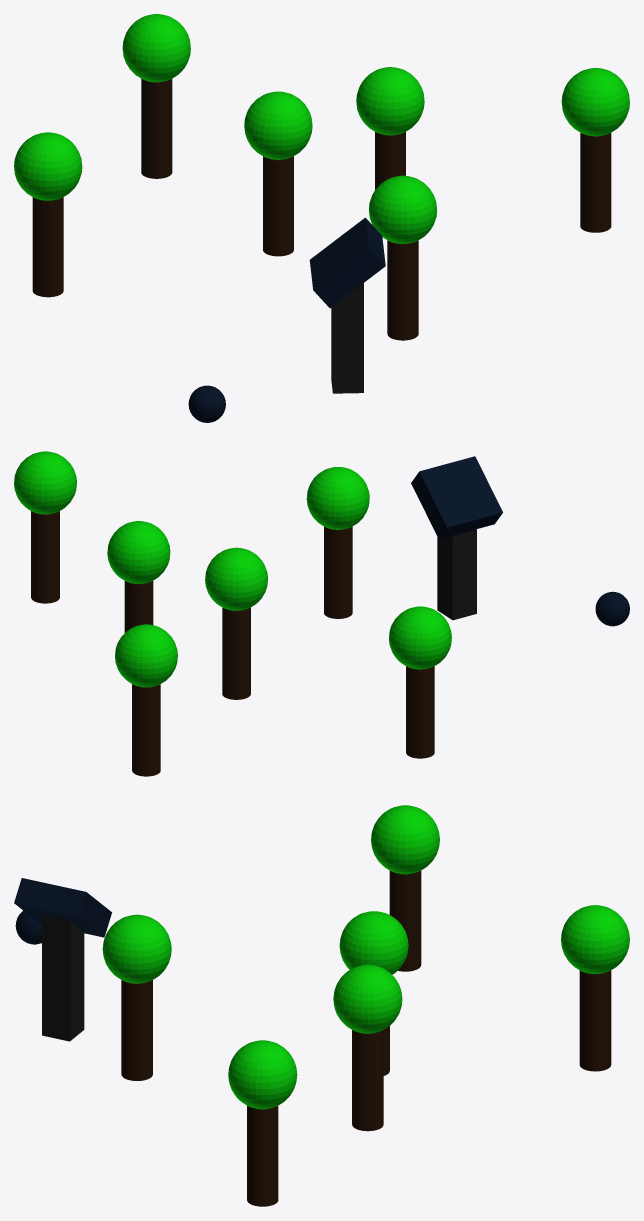
File: exercise20071.obj
The picture shows the model from 3 angles, top to bottom: view 1: azimuth 30°, elevation 25°; view 2: azimuth 150°, elevation 25°; view 3: azimuth 270°, elevation 25°; orthographic projection. The views are drawn at different scales.
Parts seen in each view (by area): view 1: Cube.001, Sphere.002, Sphere, Sphere.003, Sphere.006, Sphere.005, Sphere.004, Cube, Cylinder.006, Cylinder.004, Cylinder.003, Cylinder.005 (+3 smaller); view 2: Cube.001, Cube, Sphere.003, Sphere.005, Sphere.006, Sphere, Sphere.002, Sphere.004, Cylinder.002, Cylinder.006, Cylinder.003, Cylinder.005 (+4 smaller); view 3: Cube, Sphere.003, Sphere, Sphere.004, Sphere.006, Sphere.005, Sphere.002, Cube.001, Cylinder.005, Cylinder.003, Cylinder.004, Cylinder (+3 smaller).
Part boxes in pixels (bbox=[...]): Cube.001: bbox=[309, 217, 385, 308]; Sphere.002: bbox=[244, 91, 312, 159]; Sphere: bbox=[356, 67, 424, 135]; Sphere.003: bbox=[561, 68, 629, 136]; Sphere.006: bbox=[14, 132, 82, 200]; Sphere.005: bbox=[122, 14, 190, 82]; Sphere.004: bbox=[369, 175, 437, 243]; Cube: bbox=[331, 283, 363, 393]; Cylinder.006: bbox=[32, 197, 63, 297]; Cylinder.004: bbox=[387, 240, 418, 340]; Cylinder.003: bbox=[580, 133, 611, 232]; Cylinder.005: bbox=[141, 79, 172, 178]; Cube.001: bbox=[411, 456, 502, 539]; Cube: bbox=[437, 529, 476, 620]; Sphere.003: bbox=[14, 451, 76, 514]; Sphere.005: bbox=[115, 624, 177, 687]; Sphere.006: bbox=[389, 606, 451, 669]; Sphere: bbox=[107, 521, 170, 583]; Sphere.002: bbox=[205, 547, 267, 610]; Sphere.004: bbox=[306, 467, 369, 529]; Cylinder.002: bbox=[222, 607, 250, 699]; Cylinder.006: bbox=[406, 666, 434, 758]; Cylinder.003: bbox=[31, 511, 59, 603]; Cylinder.005: bbox=[132, 684, 160, 776]; Cube: bbox=[42, 915, 84, 1041]; Sphere.003: bbox=[228, 1040, 297, 1109]; Sphere: bbox=[333, 964, 402, 1033]; Sphere.004: bbox=[102, 914, 171, 983]; Sphere.006: bbox=[371, 805, 439, 874]; Sphere.005: bbox=[561, 905, 629, 973]; Sphere.002: bbox=[339, 911, 408, 974]; Cube.001: bbox=[14, 878, 111, 937]; Cylinder.005: bbox=[579, 970, 611, 1071]; Cylinder.003: bbox=[247, 1105, 278, 1206]; Cylinder.004: bbox=[121, 980, 152, 1080]; Cylinder: bbox=[352, 1030, 383, 1130].
Size of what is drawn, in the model's own units: 40.53 by 11.23 by 39.13.
